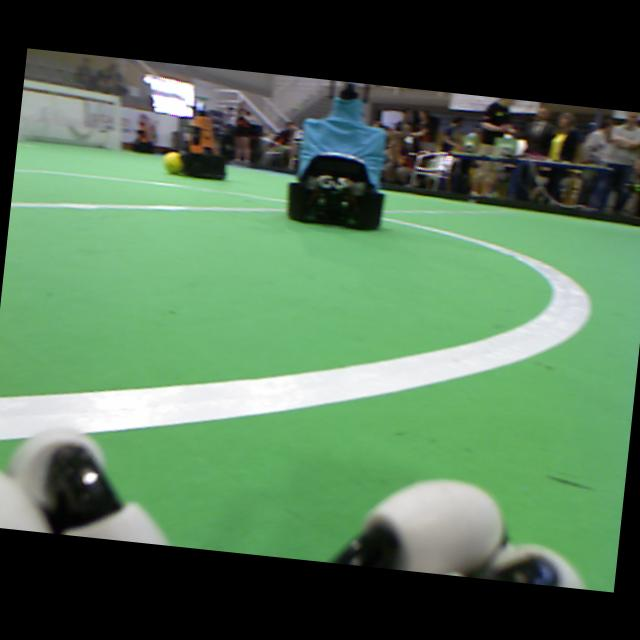ball: (165, 153, 182, 175)
goal: (114, 96, 121, 150)
robot: (181, 96, 226, 180), (132, 116, 152, 153)
